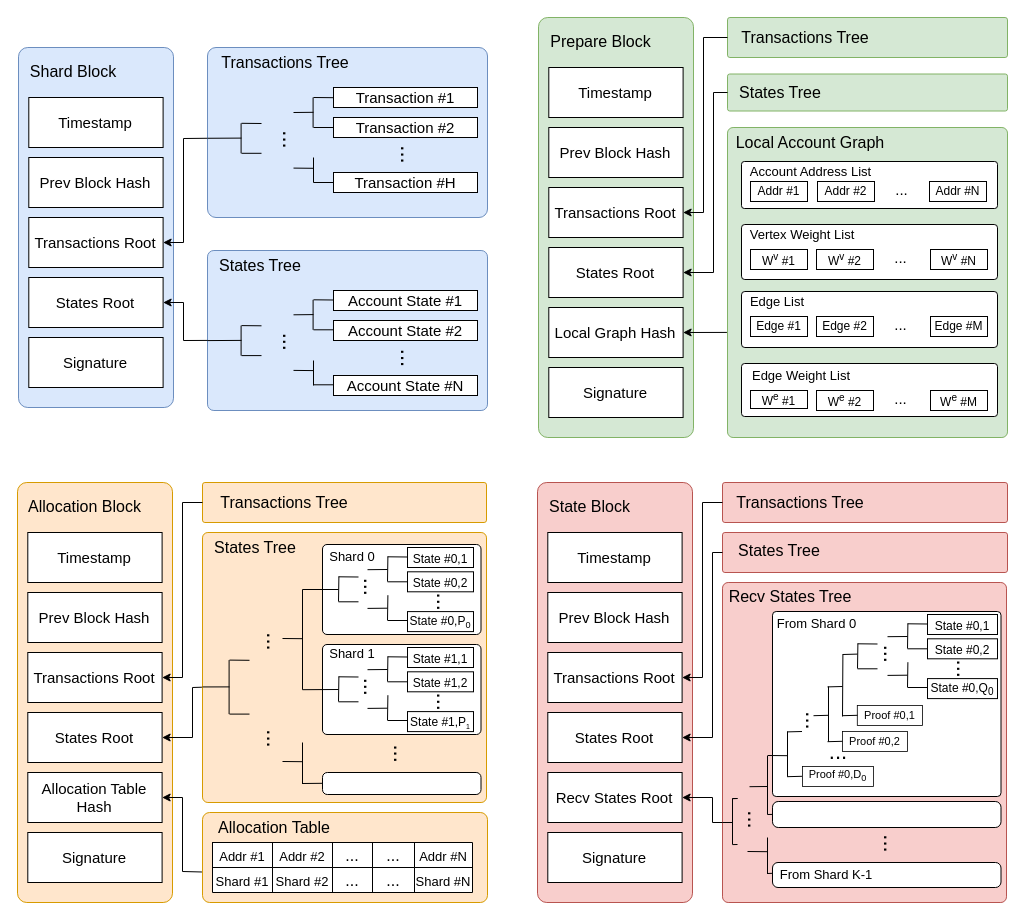
The diagram is 1025 pixels wide and 920 high, and some of its shapes have lost their labels. The shapes that lost their labels are listed below. From the top down, each one's box as (x1, y1, x2, y2) in pixels, then its label:
(322, 772, 481, 794): Shard K-1
(772, 800, 1001, 828): From Shard 1
